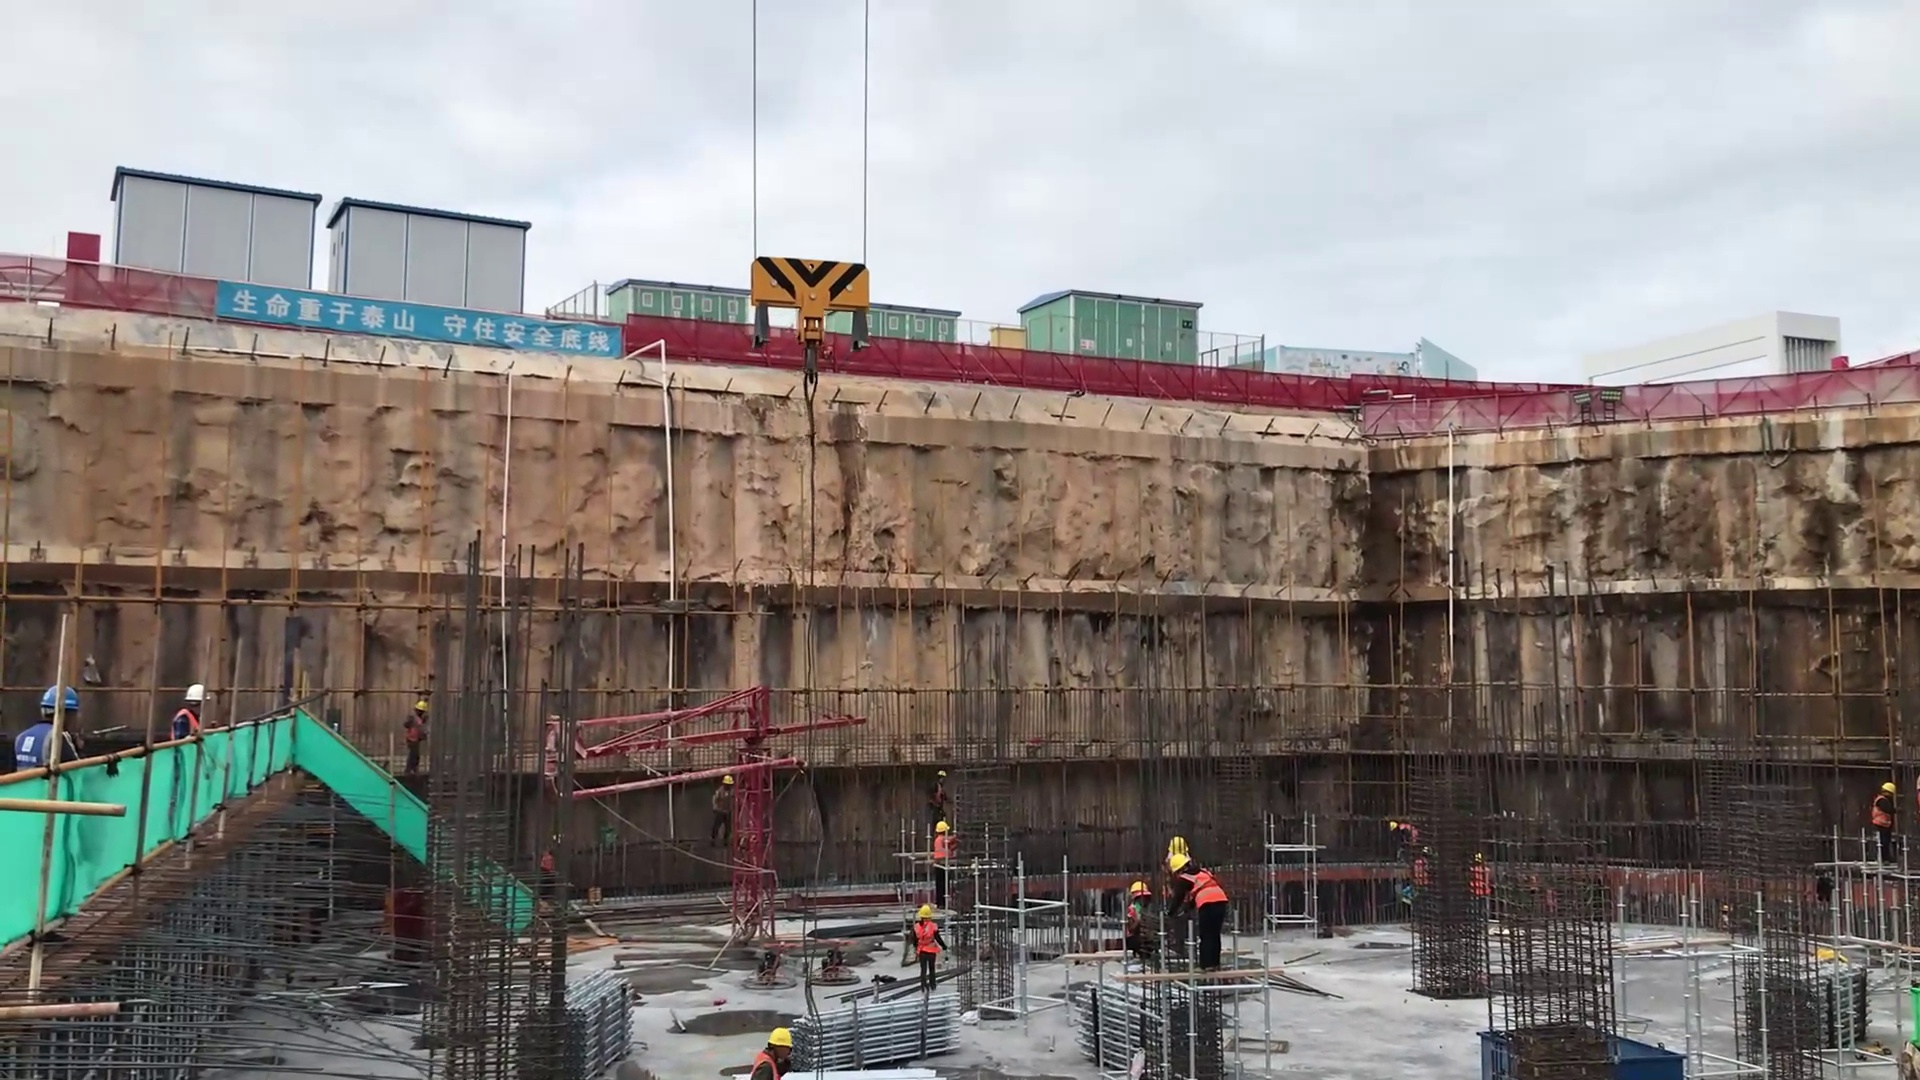fence: (893, 328, 1920, 425), (1, 252, 231, 323)
helmet: (761, 1019, 798, 1051), (40, 686, 80, 714), (1162, 833, 1193, 861), (181, 681, 215, 705), (1164, 851, 1194, 872), (1877, 778, 1898, 801), (1125, 878, 1150, 896), (917, 905, 936, 922), (933, 820, 953, 835), (720, 773, 737, 789), (413, 698, 430, 714), (934, 768, 948, 780)
hook: (736, 247, 884, 400)
hopper: (1469, 1009, 1705, 1076)
person: (1168, 853, 1232, 975), (11, 686, 88, 780), (910, 905, 950, 992), (165, 682, 211, 747), (743, 1025, 795, 1080), (1868, 780, 1901, 866), (1123, 878, 1156, 956), (928, 821, 958, 905), (402, 699, 430, 777), (711, 776, 739, 839), (926, 767, 955, 824)
scaffold: (789, 990, 967, 1075), (528, 965, 646, 1080), (1074, 964, 1173, 1071)
slogan: (215, 274, 631, 364)
vest: (12, 724, 63, 776), (1180, 869, 1230, 911), (166, 707, 203, 745), (747, 1052, 784, 1080), (913, 923, 941, 956), (1871, 797, 1895, 831), (930, 836, 956, 865), (407, 716, 427, 747)
